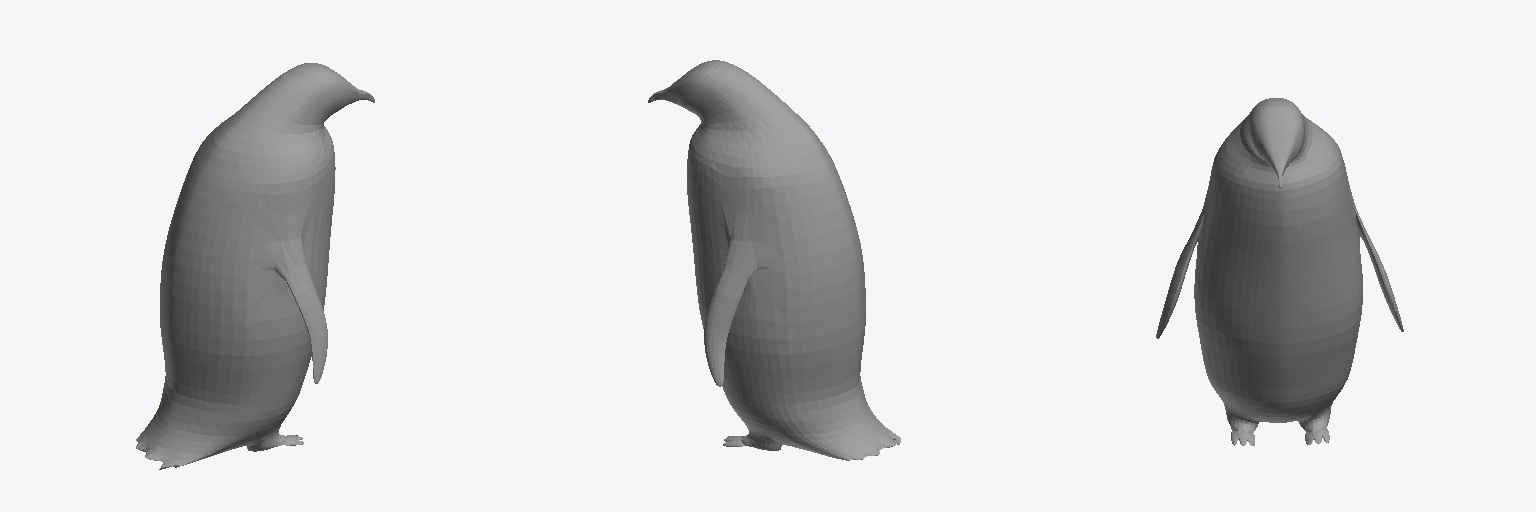
Rendered from penguin5.obj.
3 renders of one model, left to right at view 1: azimuth 30°, elevation 25°; view 2: azimuth 150°, elevation 25°; view 3: azimuth 270°, elevation 25°, orthographic.
Visible parts, largest first — view 1: Penguin_Cylinder.005; view 2: Penguin_Cylinder.005; view 3: Penguin_Cylinder.005.
Part boxes in pixels (x1,y1,x2,y2): Penguin_Cylinder.005: (136,63,374,469); Penguin_Cylinder.005: (648,60,900,460); Penguin_Cylinder.005: (1156,98,1403,445).
Size of the model in its own units: 2.68 by 3.82 by 2.41.